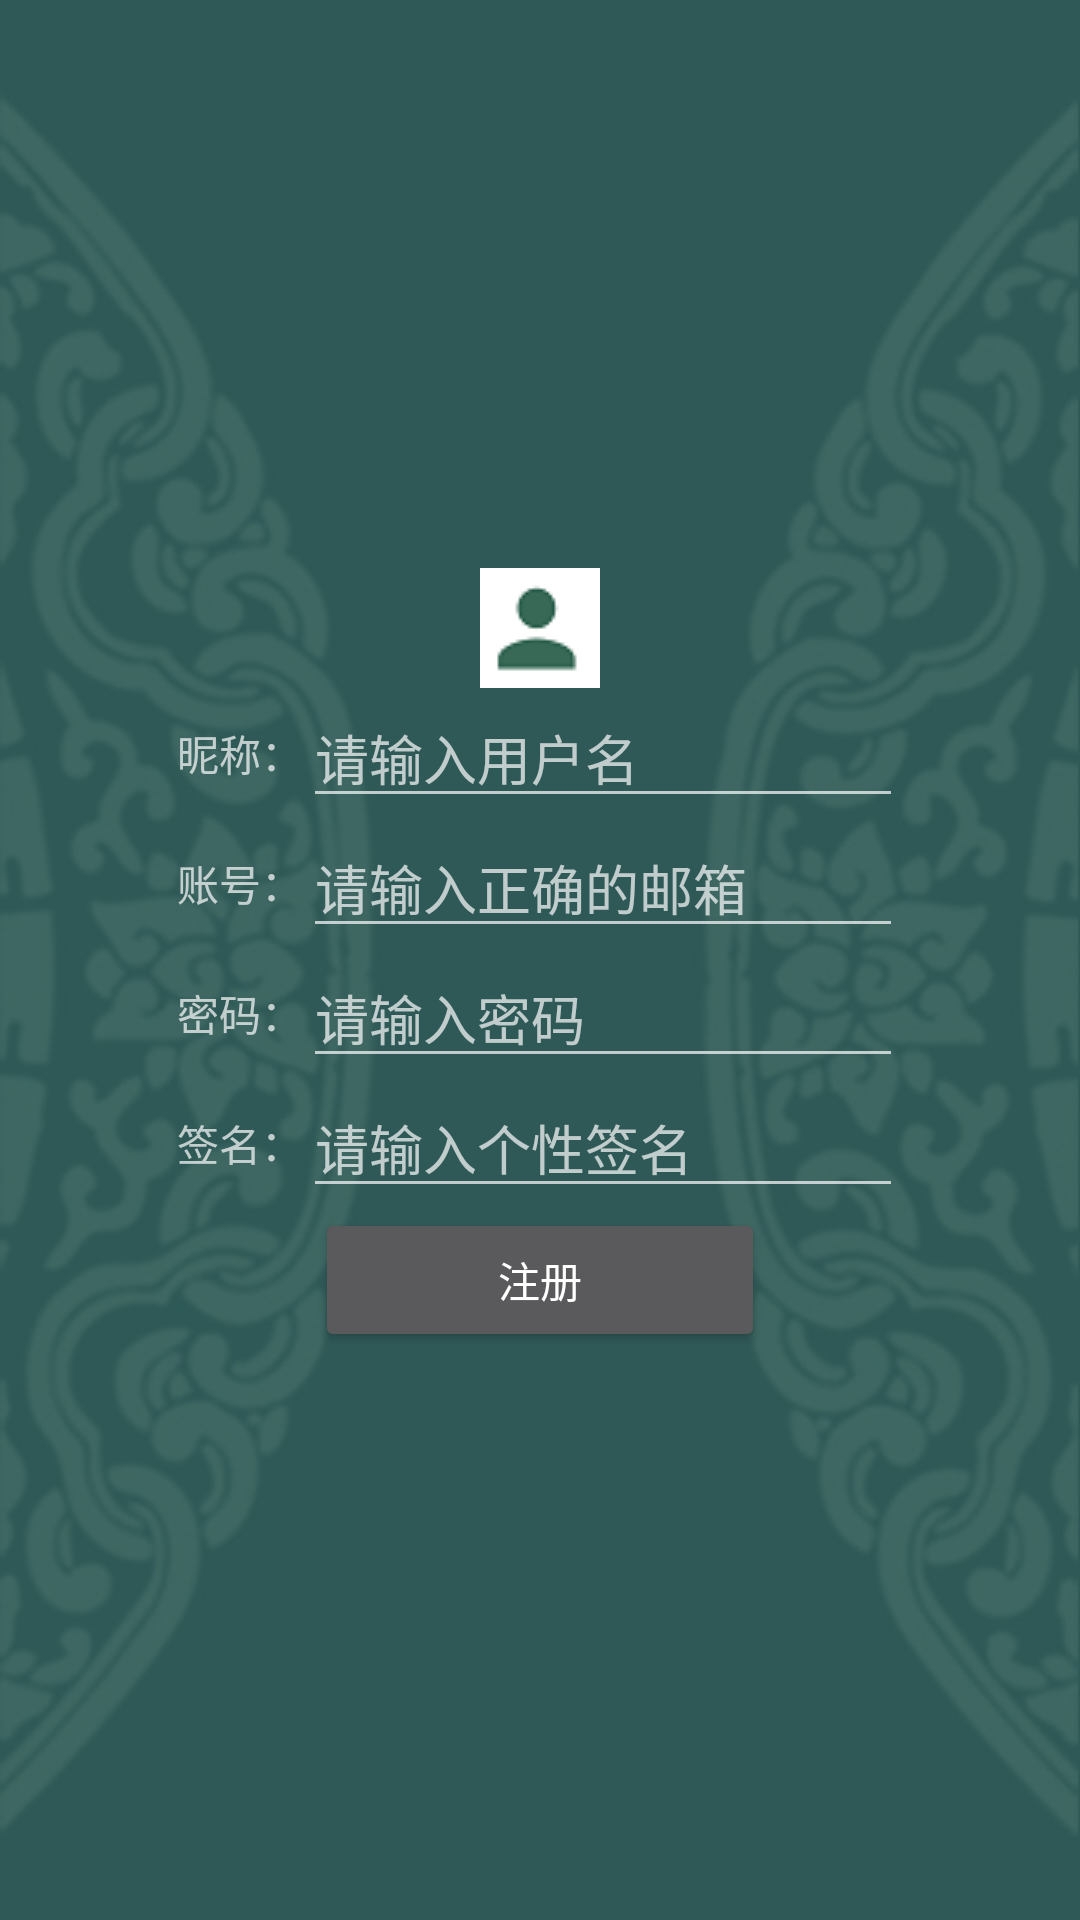

Locate icon controls on the screen. Image size 1080 × 1920, boxes as region(x1, y1, x2, y2).
tubiao: region(480, 568, 600, 688)
